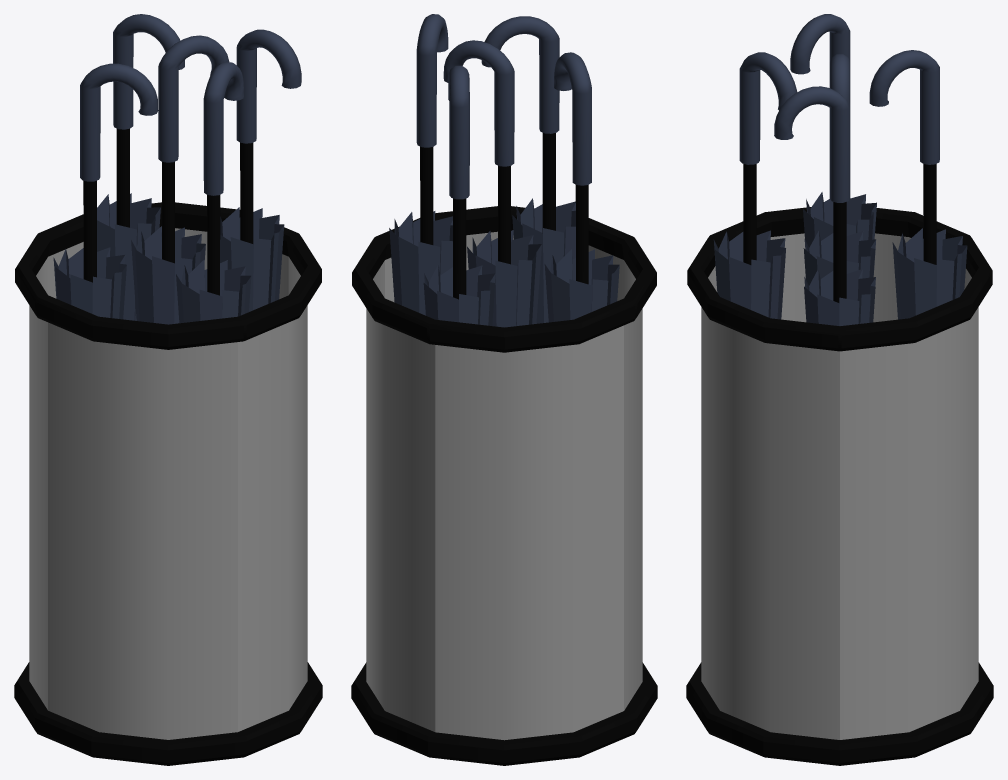
The model's file is payung dan tempatnya.fbx.
The picture shows the model from 3 angles, left to right: view 1: azimuth 30°, elevation 25°; view 2: azimuth 150°, elevation 25°; view 3: azimuth 270°, elevation 25°; orthographic projection.
Parts seen in each view (by area): view 1: Cylinder.006, Cylinder.007, Cylinder.013, Cylinder.012, Cylinder.004, Cylinder.011; view 2: Cylinder.006, Cylinder.007, Cylinder.013, Cylinder.012, Cylinder.004, Cylinder.011; view 3: Cylinder.006, Cylinder.011, Cylinder.004, Cylinder.013, Cylinder.012, Cylinder.007.
Part boxes in pixels (bbox=[...]): Cylinder.006: bbox=[14, 202, 322, 765]; Cylinder.007: bbox=[131, 35, 229, 324]; Cylinder.013: bbox=[220, 29, 301, 311]; Cylinder.012: bbox=[53, 63, 158, 319]; Cylinder.004: bbox=[176, 61, 251, 323]; Cylinder.011: bbox=[97, 14, 184, 320]; Cylinder.006: bbox=[351, 206, 657, 765]; Cylinder.007: bbox=[443, 40, 541, 327]; Cylinder.013: bbox=[389, 14, 452, 315]; Cylinder.012: bbox=[544, 52, 619, 322]; Cylinder.004: bbox=[481, 16, 575, 323]; Cylinder.011: bbox=[423, 65, 495, 325]; Cylinder.006: bbox=[686, 207, 993, 765]; Cylinder.011: bbox=[869, 50, 967, 319]; Cylinder.004: bbox=[713, 52, 797, 319]; Cylinder.013: bbox=[774, 86, 875, 325]; Cylinder.012: bbox=[790, 14, 876, 247]; Cylinder.007: bbox=[803, 54, 876, 285].
Size of the model in its own units: 44.34 by 105 by 44.34.
